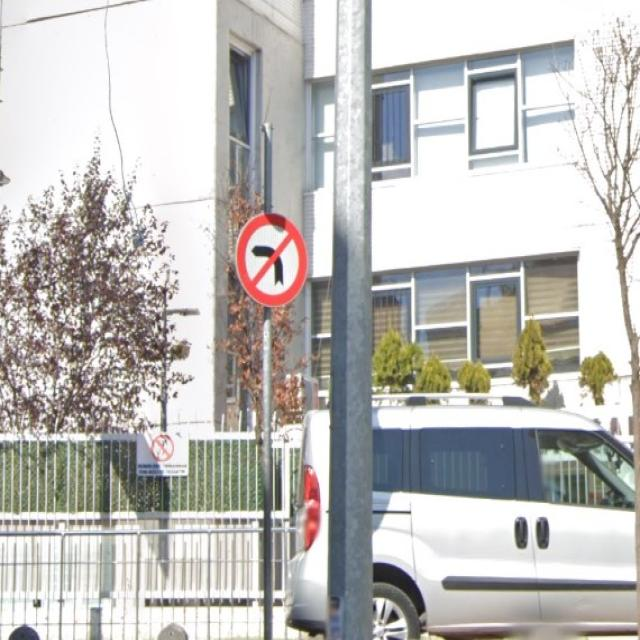soladonulmez: (236, 213, 308, 307)
